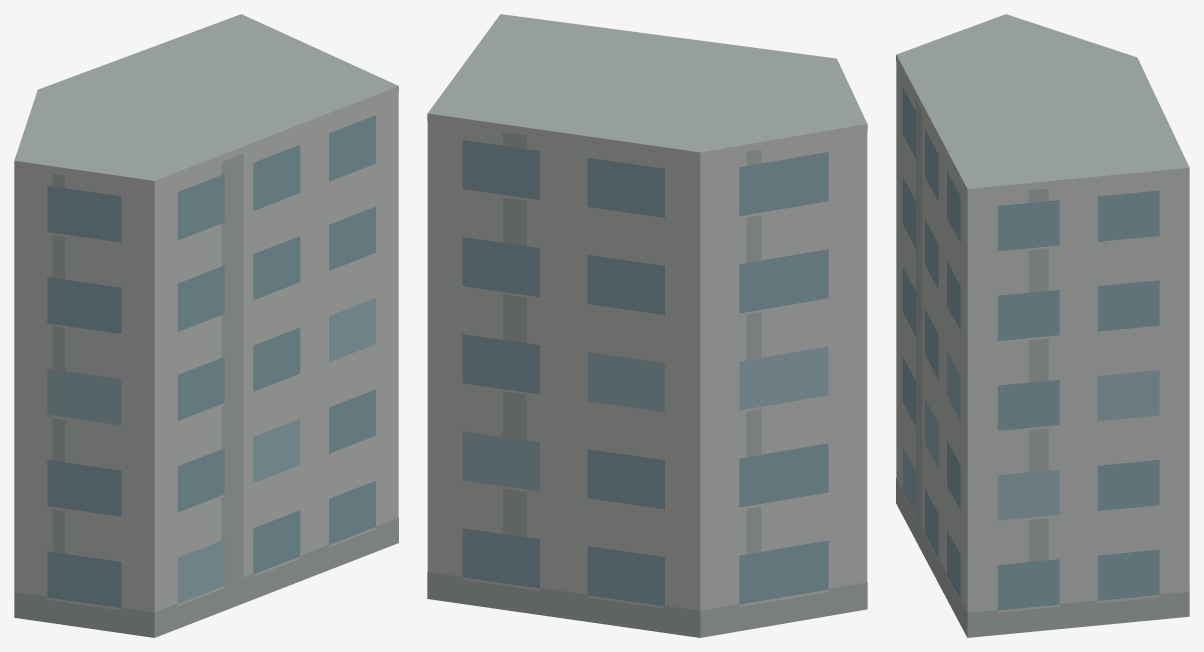
The model's file is survey-upis-32741777.glb.
The picture shows the model from 3 angles, left to right: view 1: azimuth 30°, elevation 25°; view 2: azimuth 150°, elevation 25°; view 3: azimuth 270°, elevation 25°; orthographic projection. The views are drawn at different scales.
Visible parts, largest first — view 1: survey-upis-32741777.tmp; view 2: survey-upis-32741777.tmp; view 3: survey-upis-32741777.tmp.
Boxes of the visible parts, x1,y1,x2,y2 form: survey-upis-32741777.tmp: (14,14,398,637); survey-upis-32741777.tmp: (427,14,867,637); survey-upis-32741777.tmp: (896,14,1189,637).
Size of the model in its own units: 12.76 by 15.25 by 9.04.
